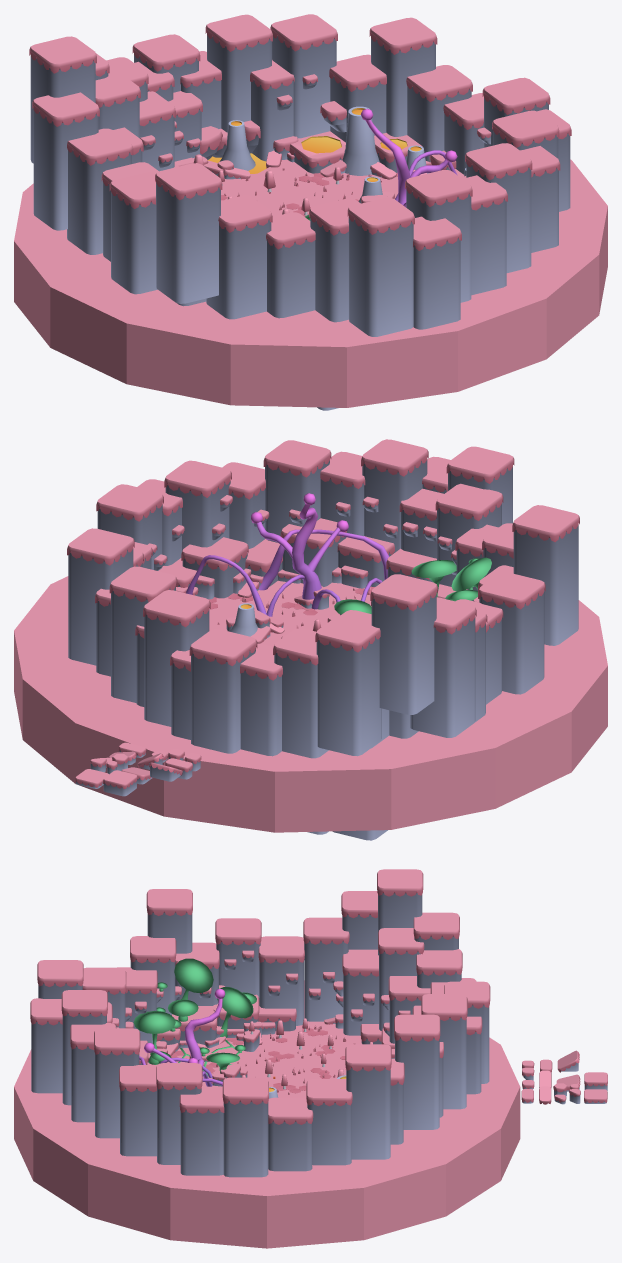
File: Exo.fbx
3 views of the same model, one above another, from view 1: azimuth 30°, elevation 25°; view 2: azimuth 150°, elevation 25°; view 3: azimuth 270°, elevation 25° (orthographic). The views are drawn at different scales.
Parts seen in each view (by area): view 1: Plane.003, block-grass-overhang-large-tall.026, block-grass-overhang-large-tall.018, block-grass-overhang-large-tall.020, block-grass-overhang-large-tall.064, block-grass-overhang-large-tall.014, block-grass-overhang-large-tall.060, block-grass-overhang-large-tall.038, block-grass-overhang-large-tall.010, block-grass-overhang-large-tall.022, block-grass-overhang-large-tall.040, block-grass-overhang-large-tall.048 (+54 smaller); view 2: Plane.003, block-grass-overhang-large-tall.062, block-grass-overhang-large-tall.063, block-grass-overhang-large-tall.018, block-grass-overhang-large-tall.064, block-grass-overhang-large-tall.072, block-grass-overhang-large-tall.014, block-grass-overhang-large-tall.040, block-grass-overhang-large-tall.032, block-grass-overhang-large-tall.065, block-grass-overhang-large-tall.070, block-grass-overhang-large-tall.042 (+54 smaller); view 3: Plane.003, block-grass-overhang-large-tall.032, block-grass-overhang-large-tall.038, block-grass-overhang-large-tall.056, block-grass-overhang-large-tall.012, block-grass-overhang-large-tall.010, block-grass-overhang-large-tall.030, block-grass-overhang-large-tall.052, block-grass-overhang-large-tall.050, block-grass-overhang-large-tall.060, block-grass-overhang-large-tall.040, block-grass-overhang-large-tall.034 (+54 smaller).
Part boxes in pixels (box(x1,y1,x2,y2)): Plane.003: box(14, 159, 607, 407); block-grass-overhang-large-tall.026: box(348, 216, 413, 336); block-grass-overhang-large-tall.018: box(156, 182, 220, 303); block-grass-overhang-large-tall.020: box(206, 220, 271, 319); block-grass-overhang-large-tall.064: box(33, 110, 98, 230); block-grass-overhang-large-tall.014: box(111, 192, 157, 294); block-grass-overhang-large-tall.060: box(413, 238, 460, 329); block-grass-overhang-large-tall.038: box(272, 36, 336, 138); block-grass-overhang-large-tall.010: box(67, 150, 131, 254); block-grass-overhang-large-tall.022: box(267, 239, 315, 318); block-grass-overhang-large-tall.040: box(207, 35, 271, 132); block-grass-overhang-large-tall.048: box(471, 199, 506, 295); Plane.003: box(14, 576, 607, 832); block-grass-overhang-large-tall.062: box(316, 637, 381, 756); block-grass-overhang-large-tall.063: box(371, 594, 436, 714); block-grass-overhang-large-tall.018: box(513, 525, 578, 645); block-grass-overhang-large-tall.064: box(410, 617, 475, 737); block-grass-overhang-large-tall.072: box(191, 648, 255, 753); block-grass-overhang-large-tall.014: box(479, 592, 544, 694); block-grass-overhang-large-tall.040: box(144, 609, 209, 726); block-grass-overhang-large-tall.032: box(68, 549, 133, 665); block-grass-overhang-large-tall.065: box(274, 652, 328, 758); block-grass-overhang-large-tall.070: box(240, 671, 281, 756); block-grass-overhang-large-tall.042: box(362, 460, 427, 552); Plane.003: box(14, 980, 520, 1248); block-grass-overhang-large-tall.032: box(346, 1068, 390, 1159); block-grass-overhang-large-tall.038: box(395, 1038, 439, 1129); block-grass-overhang-large-tall.056: box(223, 1101, 268, 1177); block-grass-overhang-large-tall.012: box(180, 1110, 223, 1175); block-grass-overhang-large-tall.010: box(304, 941, 348, 1021); block-grass-overhang-large-tall.030: box(307, 1102, 351, 1165); block-grass-overhang-large-tall.052: box(120, 1088, 156, 1156); block-grass-overhang-large-tall.050: box(95, 1052, 139, 1138); block-grass-overhang-large-tall.060: box(31, 1022, 62, 1093); block-grass-overhang-large-tall.040: box(439, 1017, 466, 1109); block-grass-overhang-large-tall.034: box(268, 1121, 312, 1171).
Bounding box in the file's own units: 395 × 187 × 452.
